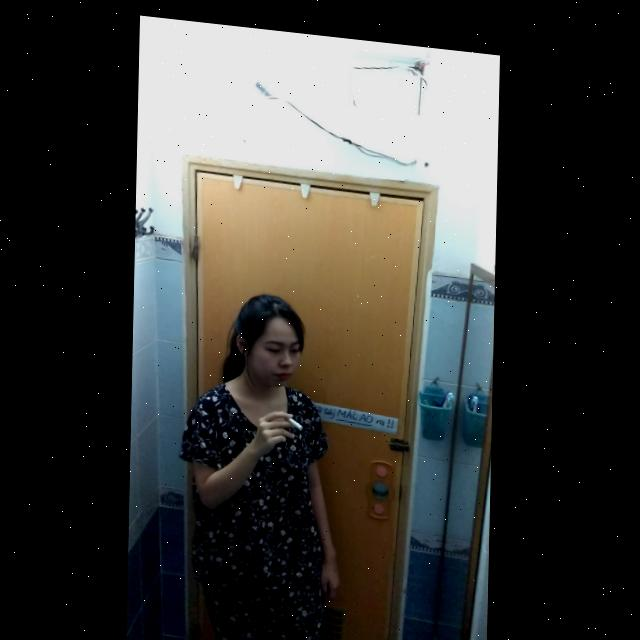cigarette: (290, 409, 306, 426)
